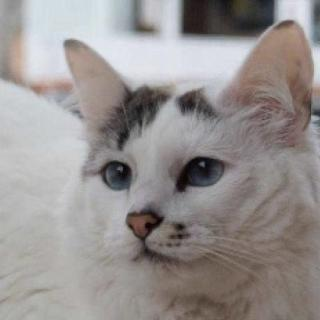cat: (61, 31, 320, 290)
nose: (120, 194, 172, 249)
